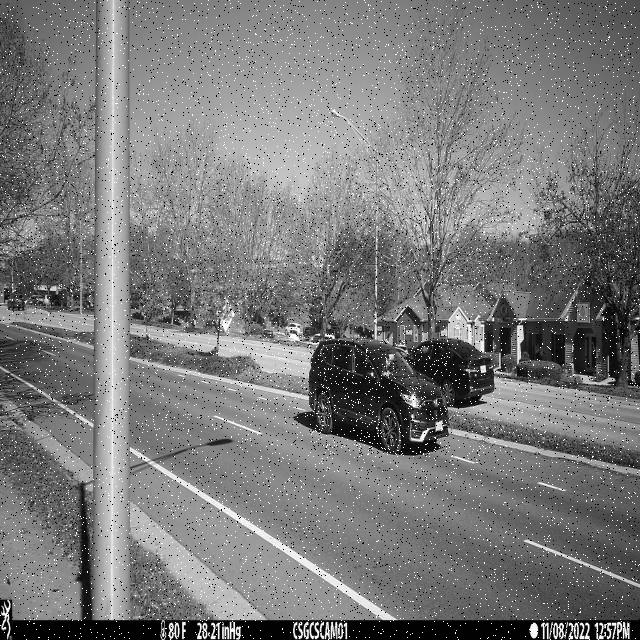SUV: (309, 339, 450, 455)
